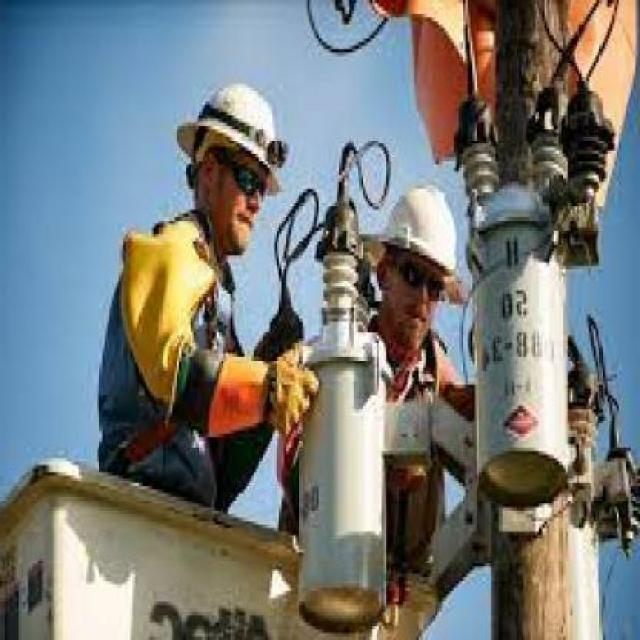helmet: (169, 79, 292, 196), (360, 175, 465, 287)
safety_vest: (91, 219, 249, 485)
